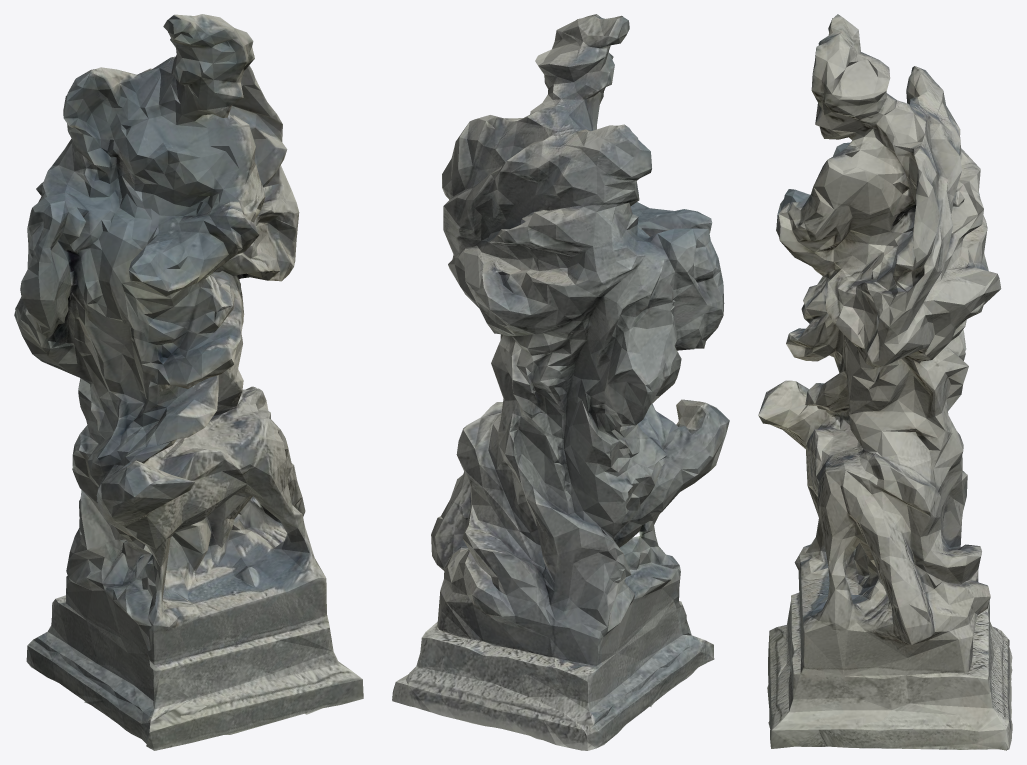
Rendered from lstivost.glb.
3 renders of one model, left to right at view 1: azimuth 30°, elevation 25°; view 2: azimuth 150°, elevation 25°; view 3: azimuth 270°, elevation 25°, orthographic. The views are drawn at different scales.
Parts seen in each view (by area): view 1: Lstivost; view 2: Lstivost; view 3: Lstivost.
Part boxes in pixels (x1,y1,x2,y2): Lstivost: (14,14,363,750); Lstivost: (392,14,729,750); Lstivost: (758,14,1012,750).
Size of the model in its own units: 1.22 by 2.74 by 0.9479.
1 material, 1 textured.
